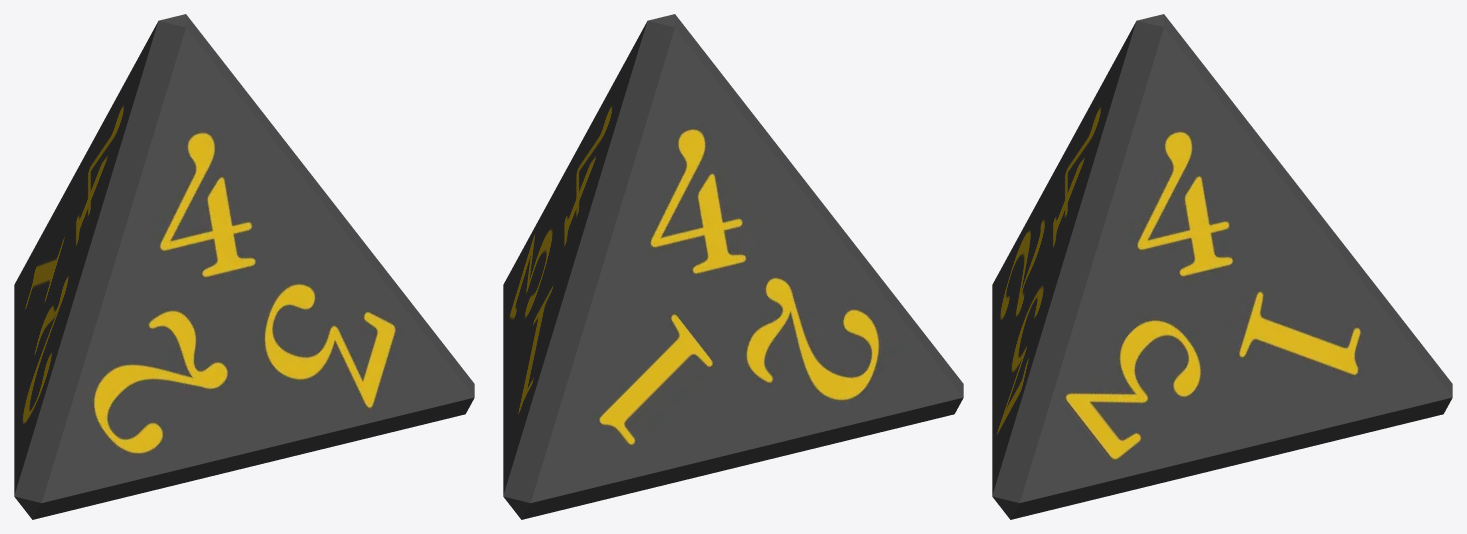
File: D4Gilded.glb
3 views of the same model, side by side, from view 1: azimuth 30°, elevation 25°; view 2: azimuth 150°, elevation 25°; view 3: azimuth 270°, elevation 25° (orthographic).
Parts seen in each view (by area): view 1: D4Gilded; view 2: D4Gilded; view 3: D4Gilded.
Boxes of the visible parts, left/top/right/bottom form: D4Gilded: left=14, top=14, right=474, bottom=519; D4Gilded: left=503, top=14, right=963, bottom=519; D4Gilded: left=992, top=14, right=1452, bottom=519.
Size of the model in its own units: 3.17 by 2.59 by 2.75.
Materials: 1 (1 with a texture image).
